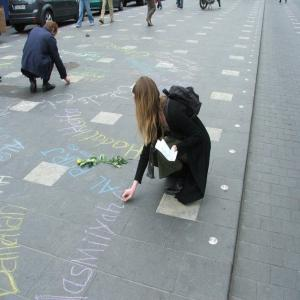Vehicle-registration-plate: (15, 7, 25, 12)
